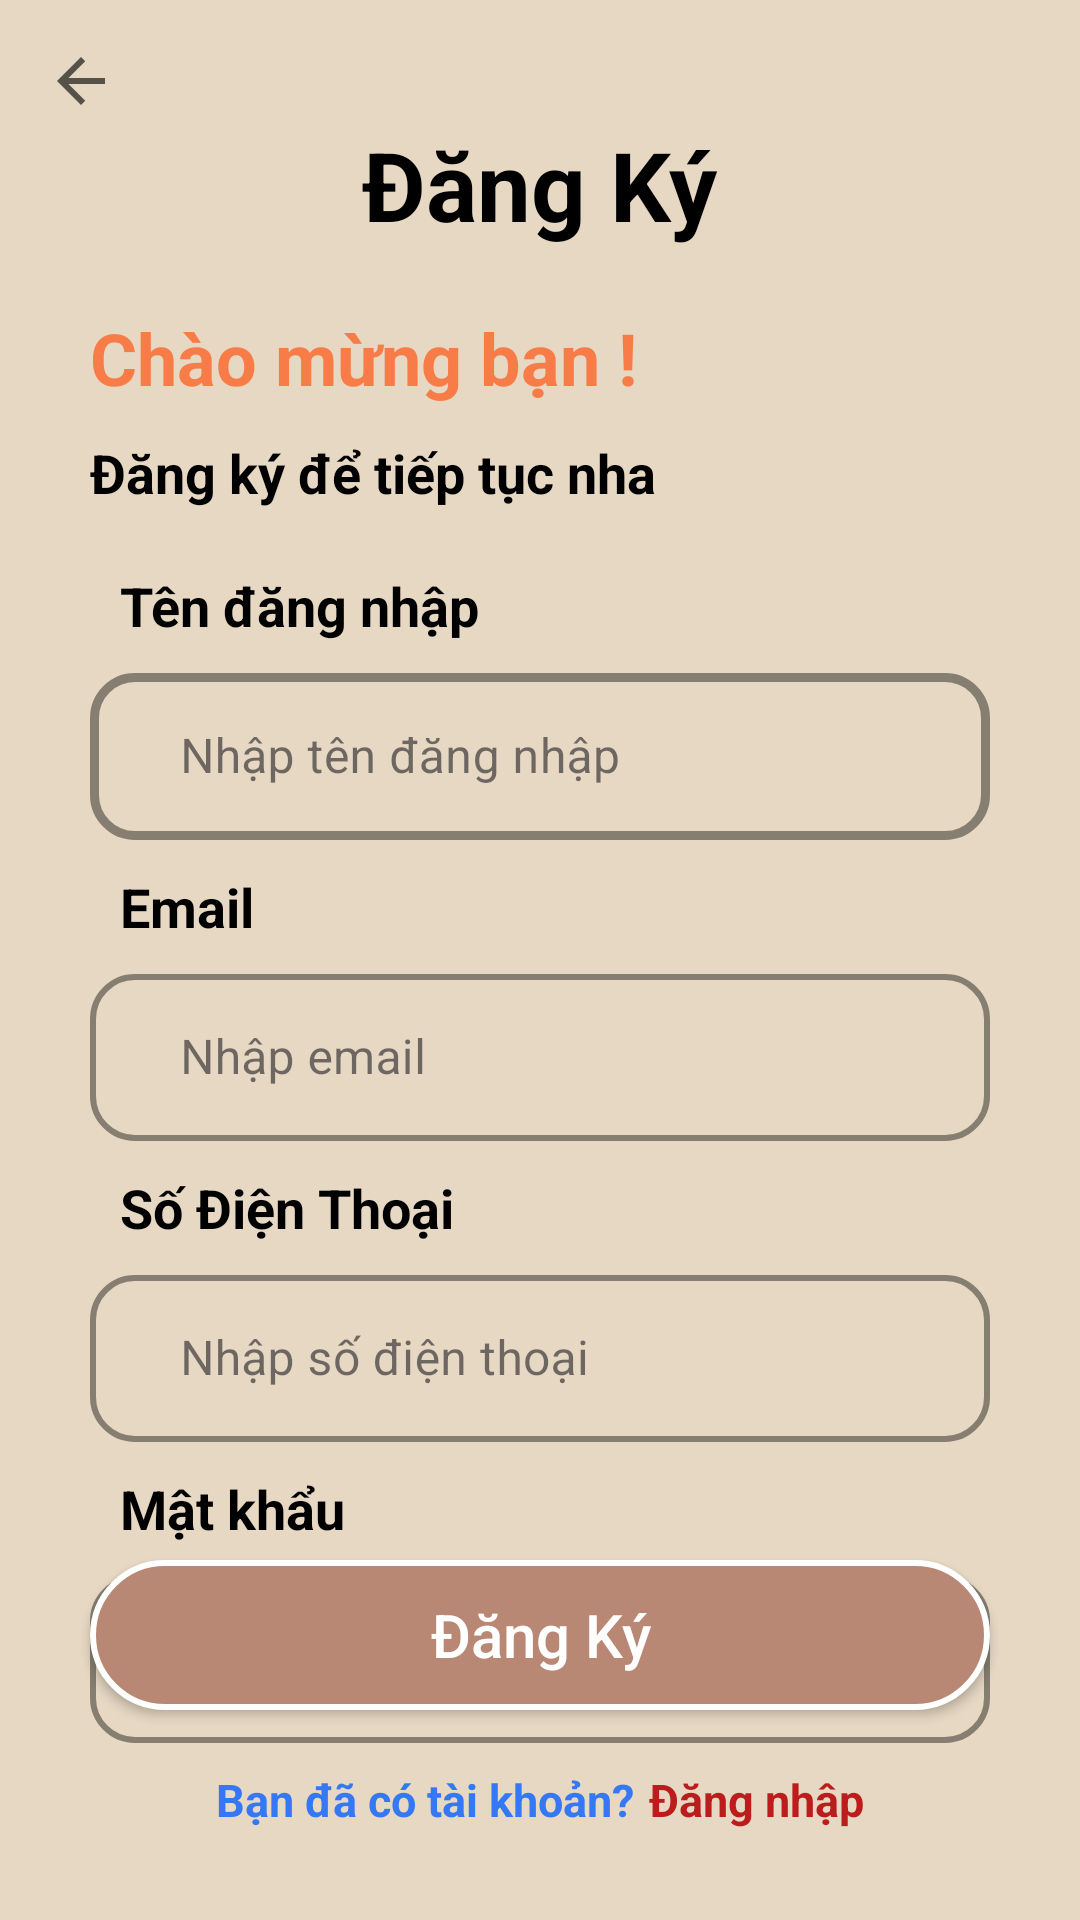

Icons on this 1080 x 1920 Android screen, each with the point to tap as (x,y):
arrow back: (81,81)
